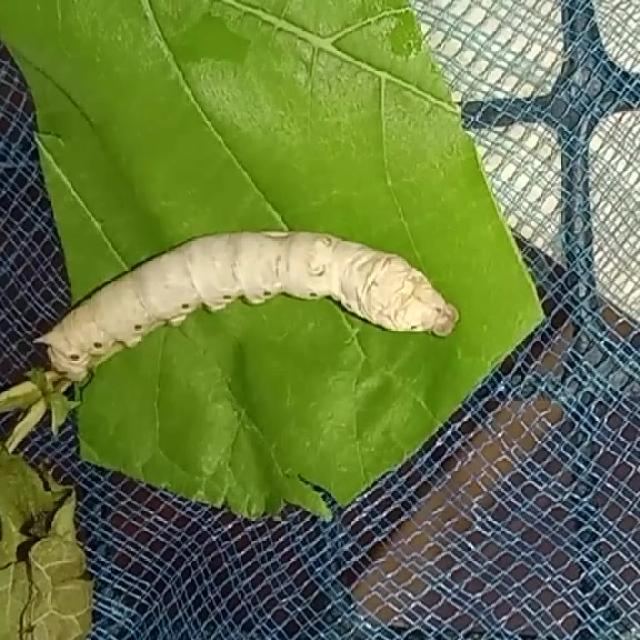Grasserie: (27, 202, 478, 398)
